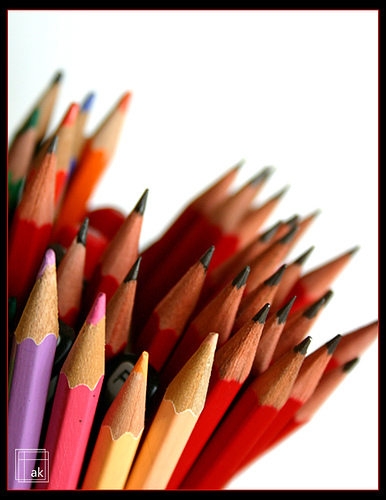pen_tip: (59, 280, 115, 412), (220, 298, 280, 412), (103, 336, 152, 461), (164, 327, 222, 427), (13, 244, 64, 353)
